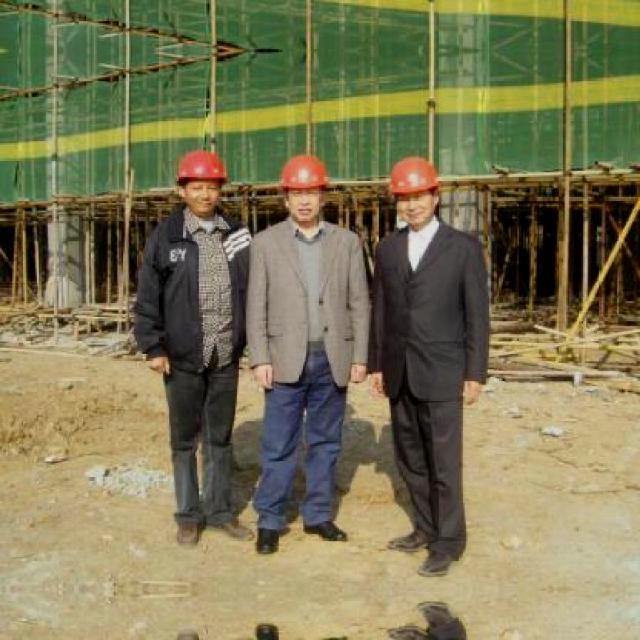hand_noglove: (456, 373, 490, 405), (248, 359, 279, 394), (145, 353, 175, 376), (365, 367, 388, 394), (349, 360, 369, 387)
head_helmet: (385, 153, 444, 197), (278, 150, 332, 195), (175, 146, 230, 183)
person: (245, 148, 378, 550), (133, 144, 262, 545), (369, 152, 490, 573)
shoes: (295, 508, 350, 548), (415, 536, 461, 582), (204, 508, 260, 541), (389, 520, 439, 554), (167, 515, 210, 552), (248, 512, 286, 553)
